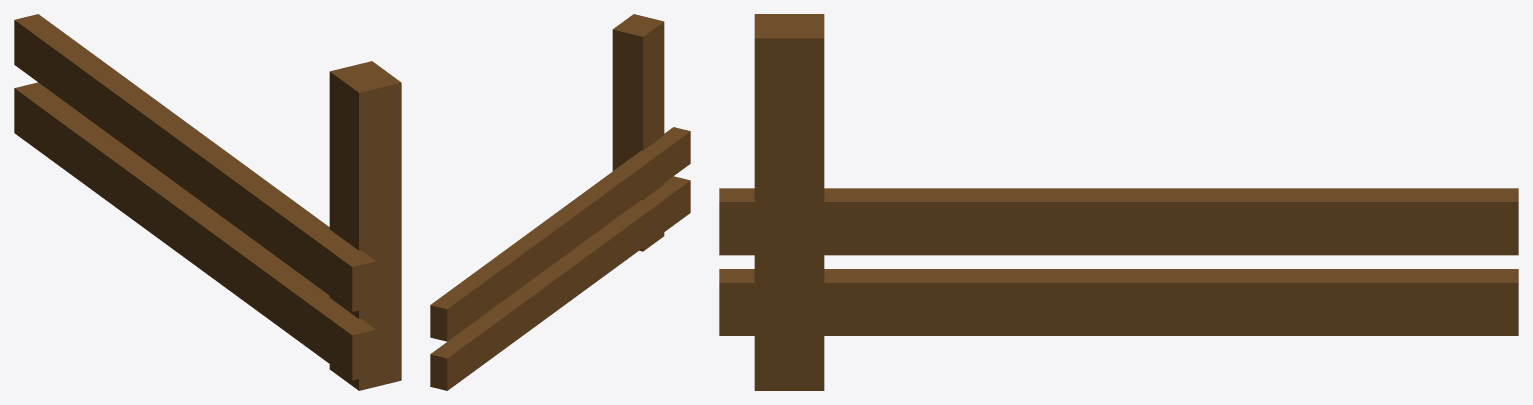
The model's file is Fence 8.fbx.
3 views of the same model, side by side, from view 1: azimuth 30°, elevation 25°; view 2: azimuth 150°, elevation 25°; view 3: azimuth 270°, elevation 25° (orthographic). The views are drawn at different scales.
Visible parts, largest first — view 1: Fence_8; view 2: Fence_8; view 3: Fence_8.
Boxes of the visible parts, x1=… form: Fence_8: x1=14, y1=14, x2=401, y2=390; Fence_8: x1=430, y1=14, x2=690, y2=390; Fence_8: x1=719, y1=14, x2=1518, y2=390.
Bounding box in the file's own units: 33.03 × 146 × 301.
Materials: 1 (1 with a texture image).
